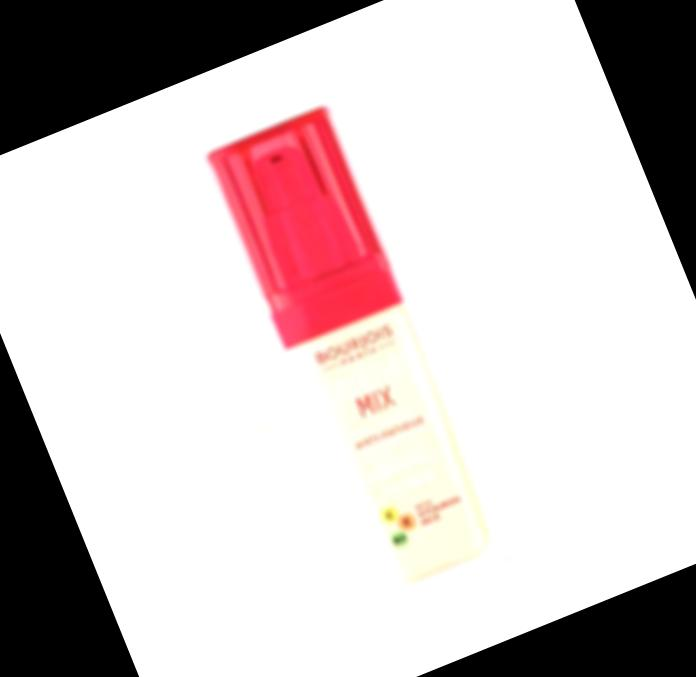cosmetic: (199, 102, 523, 628)
